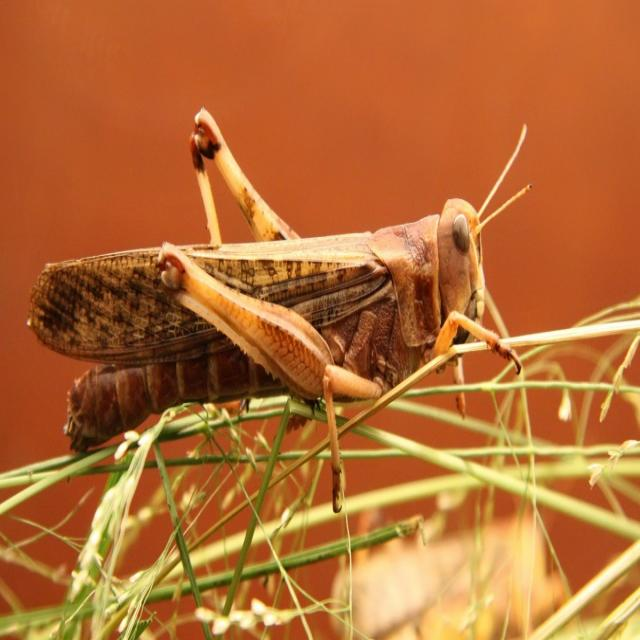ZhaMeng: (27, 91, 547, 512)
